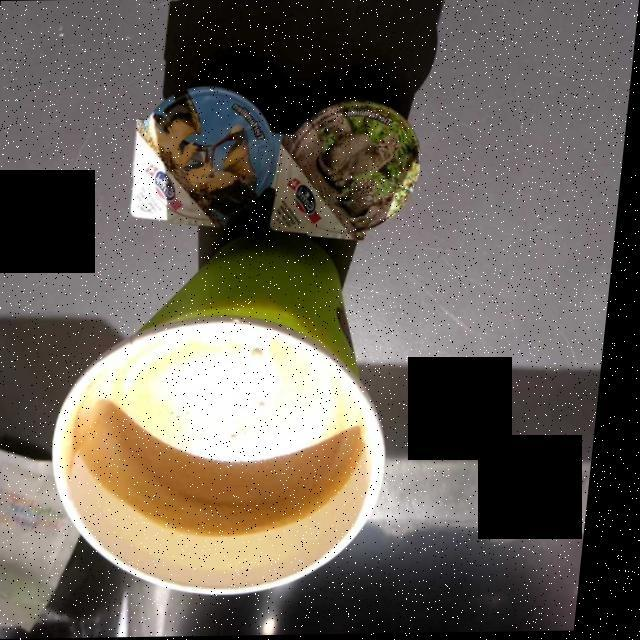drink: (86, 327, 374, 537)
